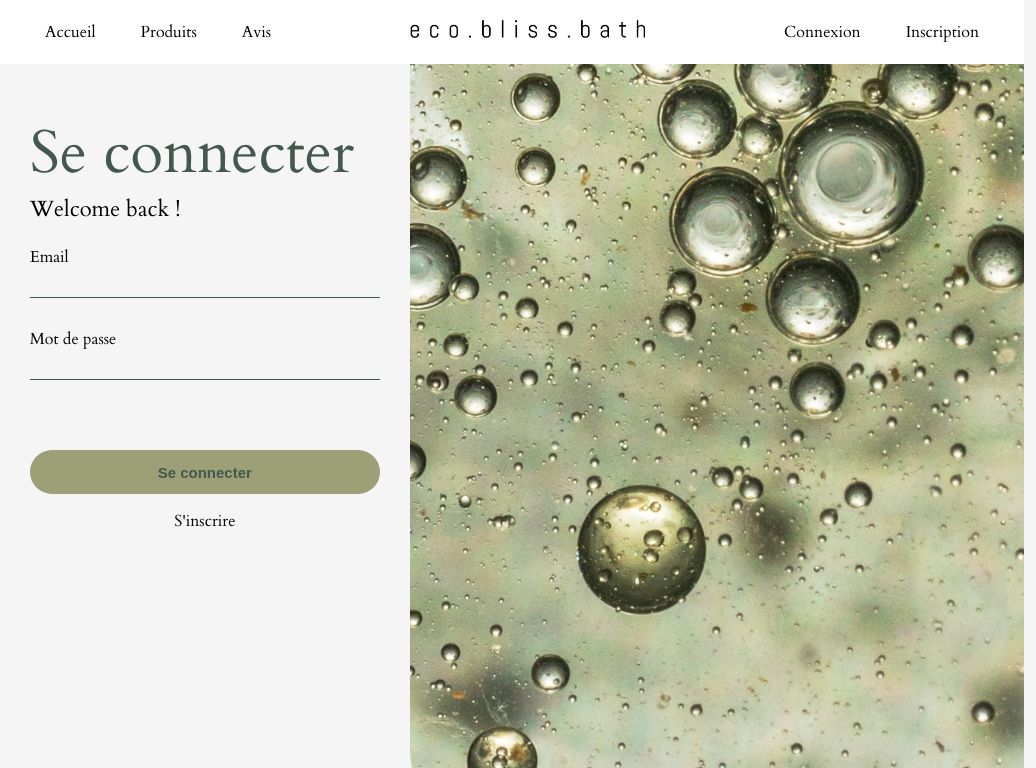
Tests de sécurité XSS sur la page de connexion › Ne doit pas interpréter du code HTML injecté
Type "<b>Test XSS</b>" into the field with test id "login-input-username" at (205, 283), box 30,268 -> 380,298
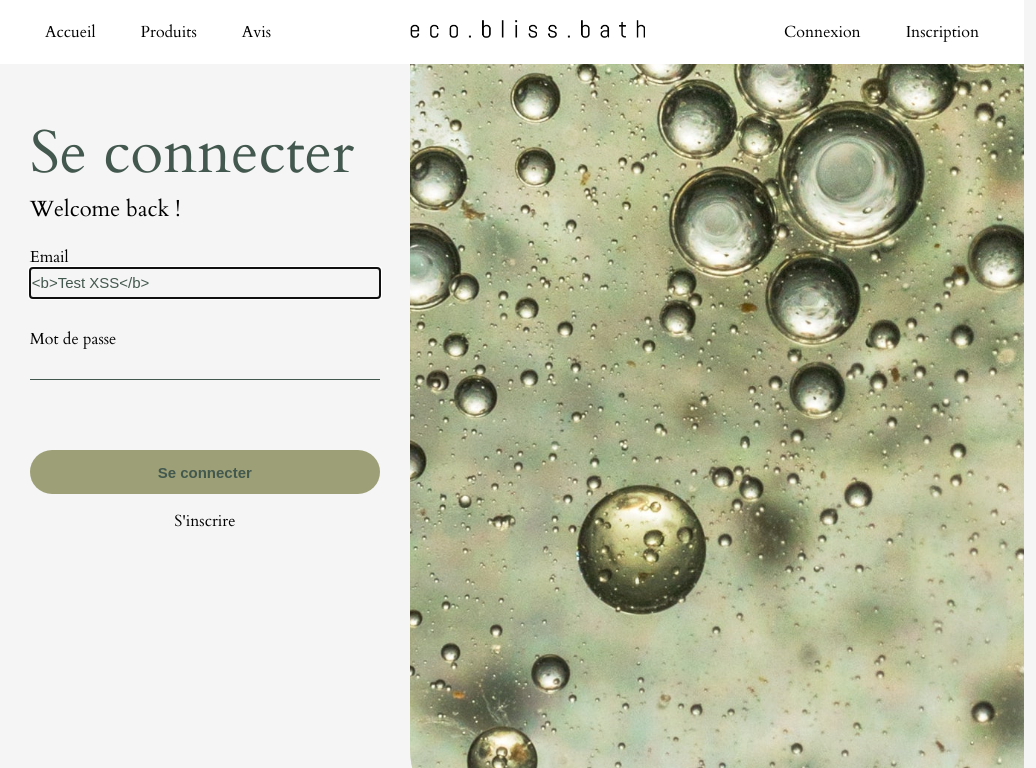
Type "testtest" into the password field with test id "login-input-password" at (205, 365), box 30,350 -> 380,380
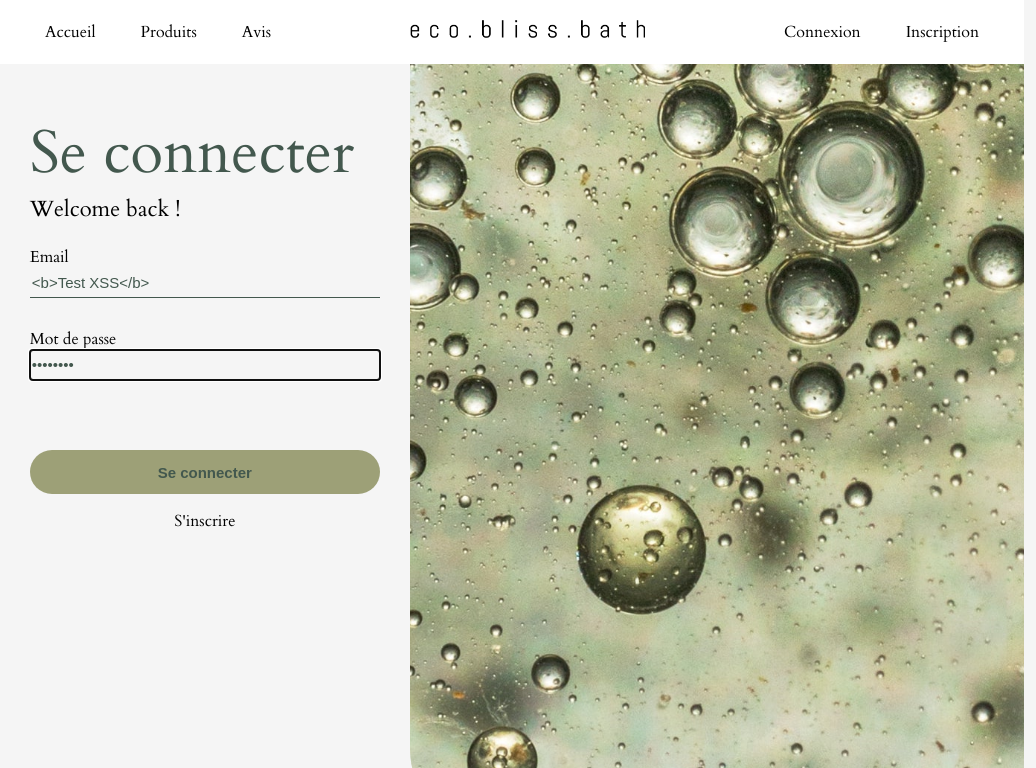
Click the button with test id "login-submit" at (205, 472), box 30,450 -> 380,494
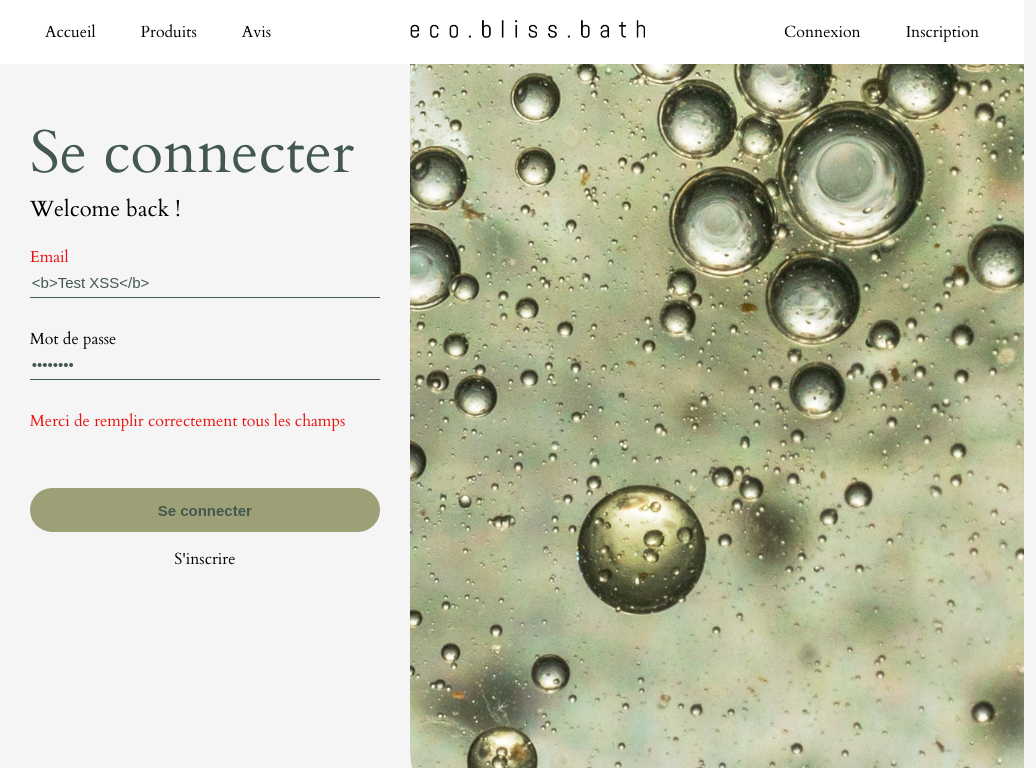
Check: the text with test id "login-errors" reads "Merci de remplir correctement tous les champs", box 30,410 -> 345,432
